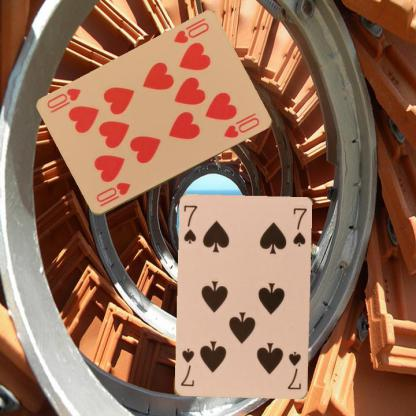10h: (93, 180, 132, 209), (170, 20, 210, 45)
7s: (285, 349, 303, 391), (181, 203, 199, 245)
